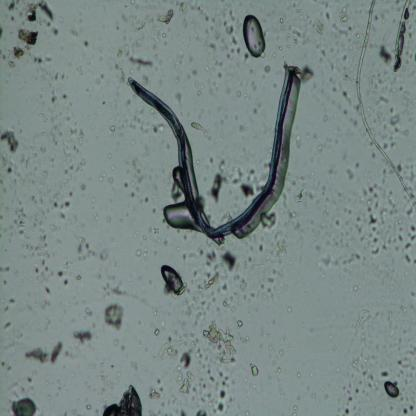Air bubble: (243, 14, 266, 58), (160, 204, 194, 231), (158, 263, 185, 293), (383, 376, 401, 399)
Background material: (380, 217, 416, 267), (198, 323, 239, 366), (102, 385, 142, 416), (104, 280, 142, 301), (63, 145, 86, 178), (216, 238, 238, 272), (20, 240, 52, 263), (218, 159, 244, 185), (157, 335, 181, 362), (0, 130, 23, 157), (374, 69, 398, 93), (105, 304, 125, 332), (76, 235, 96, 262), (174, 369, 196, 393), (247, 166, 265, 194), (14, 204, 28, 240), (32, 206, 52, 231), (22, 344, 48, 363), (18, 26, 38, 50), (10, 398, 36, 416), (130, 113, 152, 134), (190, 119, 213, 139), (209, 174, 224, 203), (221, 6, 236, 34), (318, 48, 336, 70), (272, 231, 289, 254), (188, 336, 203, 362), (173, 351, 192, 371), (62, 342, 82, 361), (176, 0, 190, 26), (127, 54, 153, 68), (293, 185, 313, 203), (223, 74, 243, 92), (73, 329, 94, 346), (1, 154, 17, 176), (24, 1, 39, 24), (36, 65, 52, 86), (48, 342, 62, 366), (355, 306, 368, 331), (8, 45, 24, 65), (40, 0, 54, 22), (132, 11, 148, 30), (204, 79, 220, 98), (401, 193, 413, 218), (383, 122, 396, 145), (113, 63, 127, 84), (218, 271, 232, 292), (157, 9, 174, 26), (261, 213, 277, 231), (195, 4, 211, 22), (256, 283, 274, 299), (50, 124, 63, 146), (311, 15, 325, 35), (192, 381, 206, 401), (150, 25, 162, 48), (131, 161, 144, 182), (341, 252, 362, 265), (333, 21, 349, 38), (202, 272, 218, 289), (175, 49, 186, 73), (116, 42, 130, 60), (338, 386, 352, 404), (99, 372, 113, 390), (193, 284, 206, 303), (52, 66, 67, 82), (70, 127, 86, 142), (204, 250, 218, 267), (318, 254, 332, 271), (350, 354, 363, 372), (382, 25, 395, 43), (208, 390, 217, 416), (337, 6, 350, 24), (194, 79, 206, 98), (217, 371, 230, 388), (302, 64, 314, 82), (21, 377, 33, 395), (184, 302, 197, 318), (380, 45, 390, 65), (388, 200, 399, 218), (400, 386, 411, 404), (118, 118, 132, 132), (34, 108, 48, 122), (198, 300, 212, 314), (192, 311, 205, 326), (403, 167, 416, 182), (0, 358, 13, 373), (169, 186, 182, 201), (382, 168, 394, 184), (241, 290, 257, 302), (50, 86, 60, 105), (4, 225, 14, 244), (343, 90, 354, 107), (151, 123, 168, 134), (147, 388, 160, 402), (241, 184, 254, 198), (38, 142, 50, 157), (373, 192, 383, 210), (50, 190, 62, 205), (20, 152, 30, 170), (226, 48, 242, 59), (95, 70, 106, 86), (368, 373, 379, 389), (31, 51, 43, 65), (36, 228, 48, 242), (56, 377, 64, 398), (217, 400, 229, 414), (292, 175, 307, 186), (207, 368, 217, 384), (394, 126, 407, 138), (68, 24, 81, 36), (36, 272, 49, 284), (372, 264, 384, 277), (376, 94, 389, 106), (349, 372, 360, 386), (405, 342, 416, 356), (141, 142, 150, 159), (244, 239, 254, 254), (334, 128, 343, 144), (269, 267, 285, 276), (176, 91, 187, 104), (334, 234, 344, 248), (271, 252, 281, 266), (229, 290, 239, 304), (176, 317, 186, 331), (380, 209, 388, 226), (219, 36, 228, 51), (212, 56, 223, 68), (228, 36, 239, 48), (9, 0, 22, 10), (100, 247, 110, 260), (294, 133, 302, 149), (292, 28, 306, 37), (141, 72, 150, 86), (342, 73, 356, 82), (156, 378, 165, 392), (146, 409, 164, 416), (39, 299, 50, 310), (50, 111, 60, 123), (288, 221, 300, 231), (322, 134, 334, 144), (250, 80, 260, 92), (254, 100, 262, 115), (372, 108, 380, 122), (366, 72, 374, 86), (274, 368, 282, 382), (40, 168, 48, 182), (389, 114, 400, 124), (84, 383, 95, 393), (370, 246, 381, 256), (74, 64, 83, 76), (347, 117, 359, 126), (231, 271, 240, 283), (98, 170, 107, 182), (0, 179, 7, 194), (396, 161, 404, 174), (84, 306, 92, 319), (60, 201, 70, 211), (330, 258, 340, 268), (240, 278, 247, 292), (197, 244, 204, 258), (346, 168, 354, 180), (403, 406, 415, 414), (160, 319, 168, 331), (222, 296, 230, 308), (262, 25, 270, 37), (312, 228, 320, 240), (146, 236, 158, 244), (182, 331, 195, 338), (161, 400, 174, 407), (209, 291, 216, 304), (395, 358, 404, 368), (374, 184, 384, 193), (59, 91, 69, 100), (119, 13, 129, 22), (63, 261, 72, 271), (218, 390, 227, 400), (374, 13, 384, 22), (320, 0, 330, 9), (324, 10, 332, 21), (341, 405, 349, 416), (286, 304, 294, 315), (330, 164, 338, 175), (342, 52, 350, 63), (326, 144, 334, 155), (397, 84, 405, 95), (31, 194, 39, 205), (409, 287, 416, 299), (301, 39, 313, 46), (104, 215, 113, 224), (369, 216, 377, 226), (208, 42, 218, 50), (369, 228, 377, 238), (312, 134, 322, 142), (134, 250, 144, 258), (388, 326, 396, 336), (107, 125, 118, 132), (342, 207, 353, 214), (278, 337, 285, 348), (312, 391, 319, 402), (150, 167, 155, 182), (389, 106, 397, 115), (204, 25, 213, 33), (346, 130, 355, 138), (365, 172, 371, 184), (316, 144, 324, 153), (62, 115, 70, 124), (354, 101, 360, 113), (372, 238, 381, 246), (342, 149, 348, 161), (173, 75, 182, 83), (51, 28, 60, 36), (58, 212, 67, 220), (49, 225, 61, 231), (151, 328, 160, 336), (342, 269, 352, 276), (279, 388, 286, 398), (328, 74, 335, 84), (2, 323, 12, 330), (126, 98, 133, 108), (387, 312, 393, 323), (10, 59, 16, 70), (197, 410, 208, 416), (366, 198, 374, 206), (236, 90, 244, 98), (218, 118, 226, 126), (380, 370, 388, 378), (247, 256, 255, 264), (267, 277, 275, 285), (106, 176, 114, 184), (324, 209, 332, 217), (358, 195, 366, 203), (152, 228, 160, 236), (0, 265, 9, 272), (235, 318, 242, 327), (182, 233, 189, 242), (132, 361, 139, 370), (243, 51, 249, 61), (216, 307, 222, 317), (278, 347, 284, 357), (268, 374, 273, 386), (38, 194, 44, 204), (354, 34, 361, 42), (331, 84, 338, 92), (130, 191, 137, 199), (194, 158, 201, 166), (354, 8, 362, 15), (367, 185, 375, 192), (0, 24, 4, 38), (361, 235, 368, 243), (356, 224, 364, 231), (9, 297, 16, 305), (45, 56, 53, 63), (1, 305, 9, 312), (242, 335, 249, 343), (258, 245, 265, 253), (192, 270, 199, 278), (94, 214, 101, 222), (322, 101, 327, 112), (321, 184, 326, 195), (239, 124, 245, 133), (324, 93, 330, 102), (363, 189, 370, 196), (243, 409, 250, 416), (289, 211, 296, 218), (12, 178, 19, 185), (193, 33, 201, 39), (143, 196, 149, 204), (298, 13, 304, 21), (192, 69, 198, 77), (334, 364, 340, 372), (44, 286, 50, 294), (314, 245, 322, 251), (115, 19, 119, 31), (73, 408, 79, 416), (2, 278, 8, 286), (34, 266, 40, 274), (229, 306, 237, 312), (374, 310, 380, 318), (371, 44, 379, 50), (92, 197, 96, 209), (68, 189, 73, 198), (149, 108, 155, 115), (123, 211, 130, 217), (400, 307, 407, 313), (336, 103, 342, 110), (208, 159, 214, 166), (181, 410, 188, 416), (320, 87, 326, 94), (0, 54, 7, 60), (57, 16, 64, 22), (95, 273, 102, 279), (272, 82, 278, 89), (18, 9, 22, 19), (41, 259, 46, 267), (271, 360, 276, 368), (144, 249, 149, 257), (175, 328, 180, 336), (186, 286, 191, 294), (312, 83, 318, 89), (364, 358, 370, 364), (154, 310, 160, 316), (320, 72, 326, 78), (114, 340, 120, 346), (83, 40, 89, 46), (128, 69, 134, 75), (44, 266, 50, 272), (340, 374, 346, 380), (332, 113, 338, 119), (64, 280, 70, 286), (86, 404, 92, 410), (116, 372, 122, 378), (344, 66, 349, 73), (355, 388, 362, 393), (366, 207, 373, 212), (129, 0, 136, 5), (293, 36, 298, 43), (296, 372, 301, 379), (75, 275, 82, 280), (182, 253, 187, 260), (280, 16, 284, 24), (288, 258, 292, 266), (134, 230, 138, 238), (294, 403, 298, 411), (288, 24, 292, 32), (244, 261, 248, 269), (303, 52, 308, 58), (370, 163, 376, 168), (353, 286, 358, 292), (356, 163, 361, 169), (345, 220, 350, 226), (94, 132, 99, 138), (161, 32, 166, 38), (57, 272, 62, 278), (292, 2, 297, 8), (54, 202, 59, 208), (151, 193, 156, 199), (320, 10, 324, 17), (280, 26, 287, 30), (130, 180, 134, 187), (265, 65, 269, 72), (372, 153, 376, 160), (310, 220, 315, 225), (163, 41, 168, 46), (121, 346, 126, 351), (84, 87, 89, 92), (367, 107, 372, 112), (322, 115, 327, 120), (110, 274, 115, 279), (343, 108, 348, 113), (206, 66, 210, 72), (111, 164, 115, 170), (236, 116, 240, 122), (216, 34, 220, 40), (96, 2, 102, 6), (296, 8, 300, 14), (368, 142, 372, 148), (332, 346, 338, 350), (1, 298, 5, 304), (46, 24, 52, 28), (309, 370, 313, 376), (124, 182, 128, 188), (326, 394, 329, 401), (218, 73, 222, 78), (190, 280, 195, 284), (152, 209, 156, 214), (278, 321, 282, 326), (389, 191, 393, 196), (364, 372, 368, 377), (348, 25, 352, 30), (98, 391, 102, 396), (63, 412, 68, 416), (322, 274, 326, 279), (336, 221, 340, 226), (286, 44, 291, 48), (10, 16, 15, 20), (268, 345, 272, 350), (252, 385, 257, 389), (278, 46, 282, 51), (272, 52, 275, 58), (346, 243, 349, 249), (346, 230, 349, 236), (102, 100, 106, 104), (265, 255, 269, 259), (176, 247, 180, 251), (404, 271, 408, 275), (386, 274, 390, 278), (333, 100, 336, 105), (87, 59, 90, 64), (110, 364, 113, 369), (259, 344, 262, 349), (100, 361, 103, 366), (338, 67, 341, 72), (244, 378, 247, 383), (0, 216, 3, 221), (244, 94, 247, 99), (110, 152, 112, 159), (322, 80, 324, 86), (272, 320, 275, 324), (306, 220, 309, 224), (329, 335, 332, 339), (102, 398, 105, 402), (358, 216, 360, 222), (293, 413, 297, 416), (166, 242, 169, 246), (82, 186, 85, 190), (139, 342, 141, 347), (40, 20, 42, 25), (276, 356, 278, 361), (322, 386, 324, 391), (410, 306, 413, 309), (143, 237, 146, 240), (284, 370, 286, 374), (318, 99, 320, 103), (288, 35, 290, 37)
Cellulose filter fibre: (357, 0, 416, 200), (393, 0, 414, 74)
Cotton: (125, 64, 293, 238)
